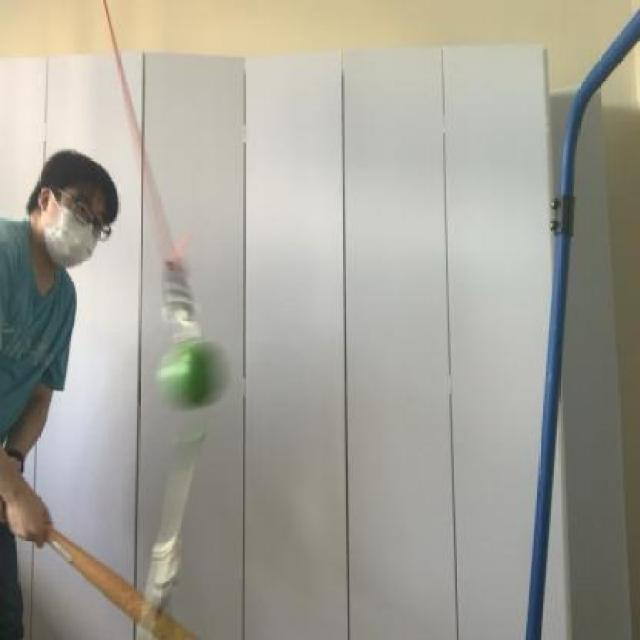baseball: (155, 328, 231, 410)
